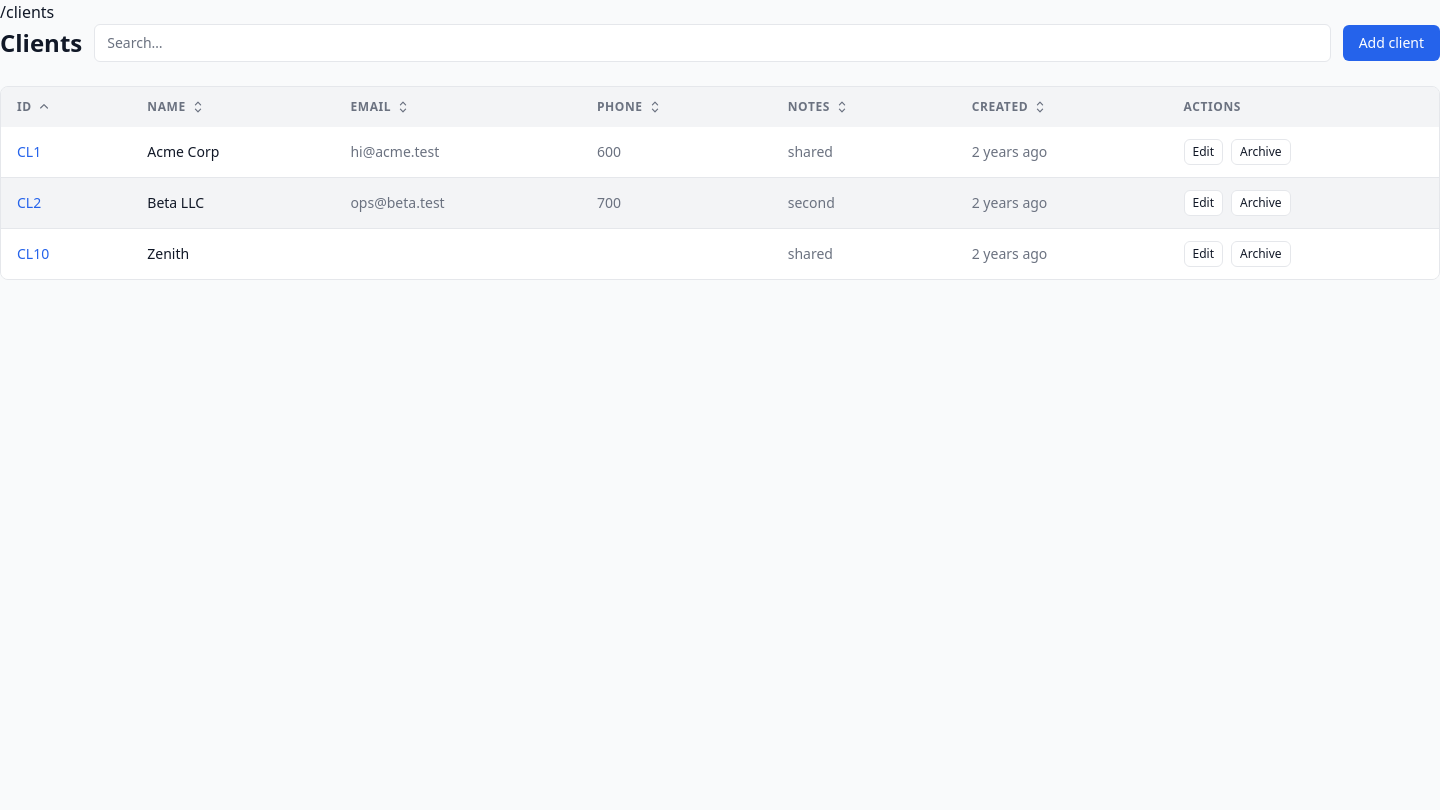
Scenario: ClientsPage › keeps the client when archiving is cancelled
Click the button with test id "client-archive-CL2". click: (1261, 203)
box: [1231,190,1290,216]
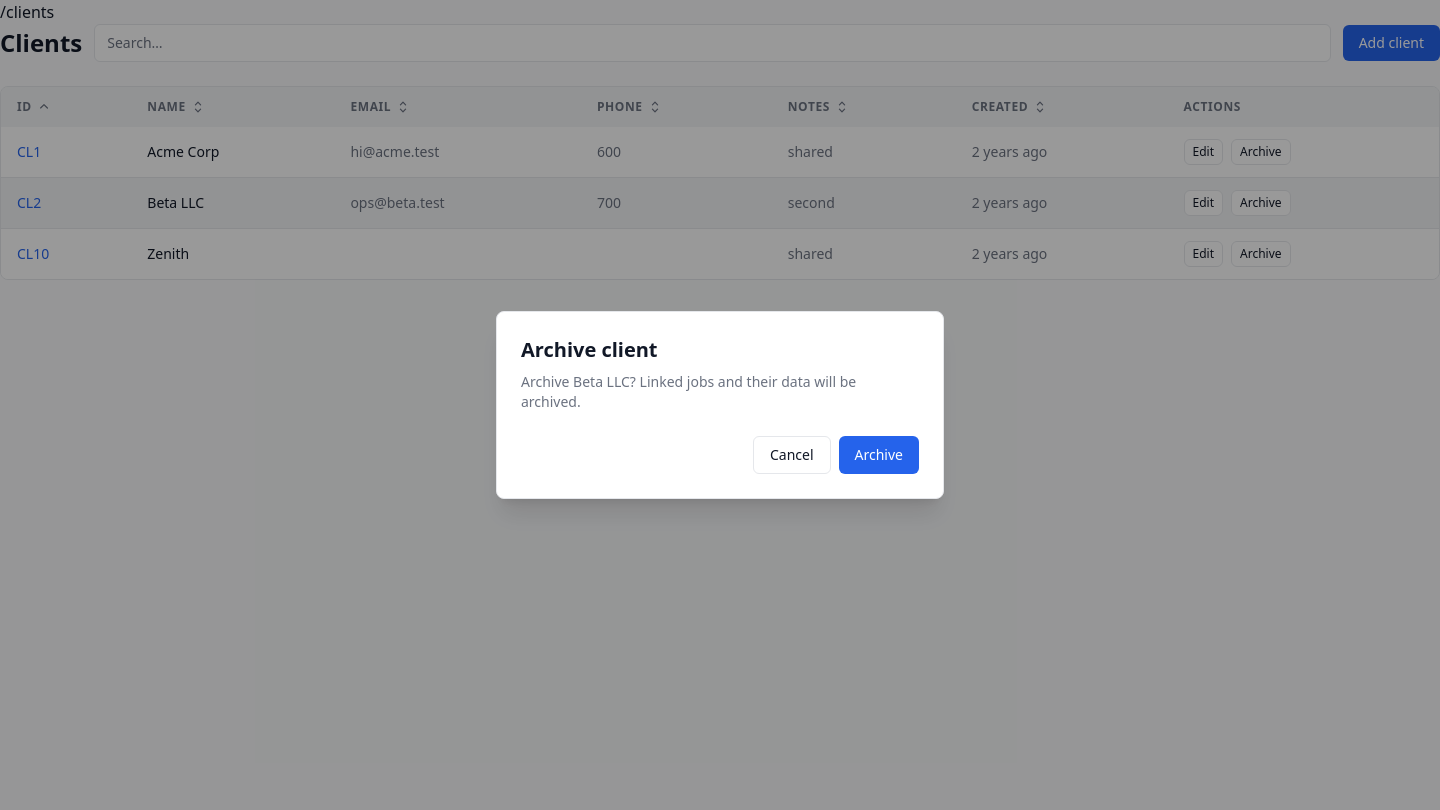
Click the button "Cancel". click: (792, 455)
box: [753,436,831,474]
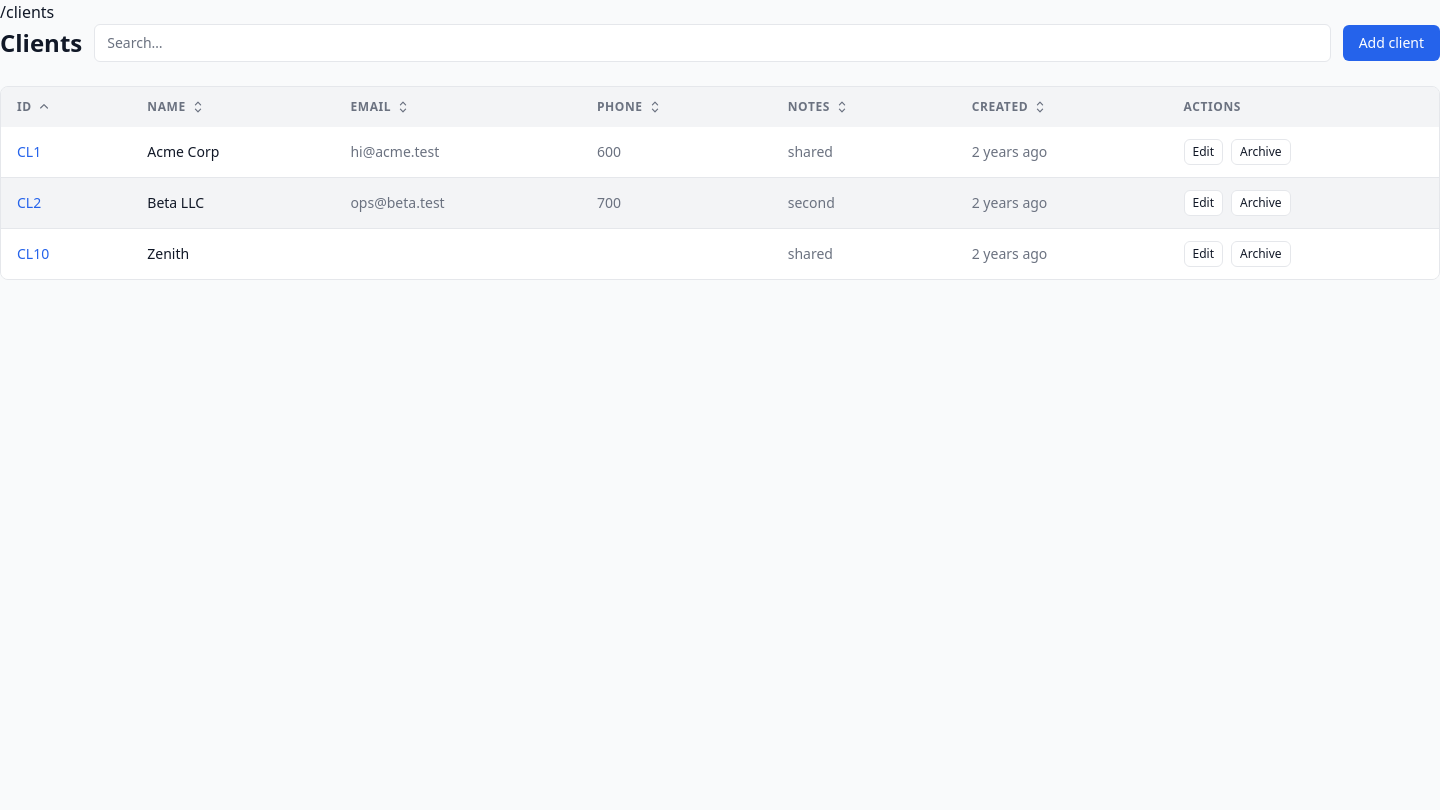
Now the dialog is gone
